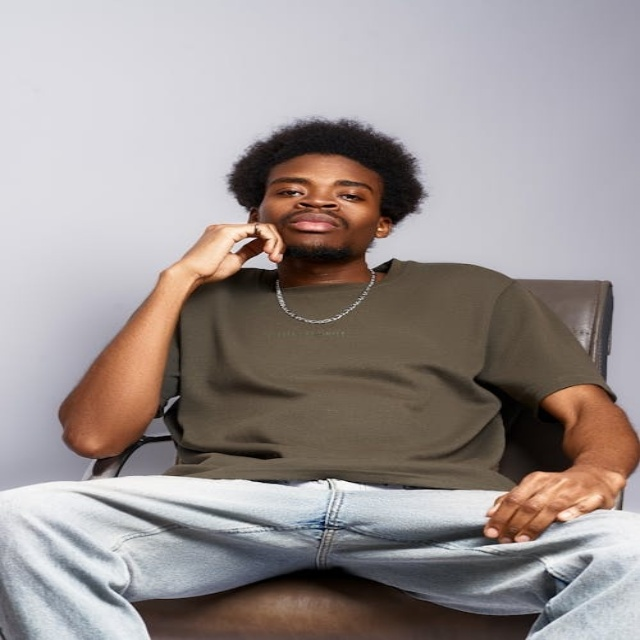Sin_gafas: (269, 180, 376, 200)
Sin_guantes: (476, 460, 626, 546), (155, 219, 287, 297)
Sin_mascara: (276, 208, 347, 240)
